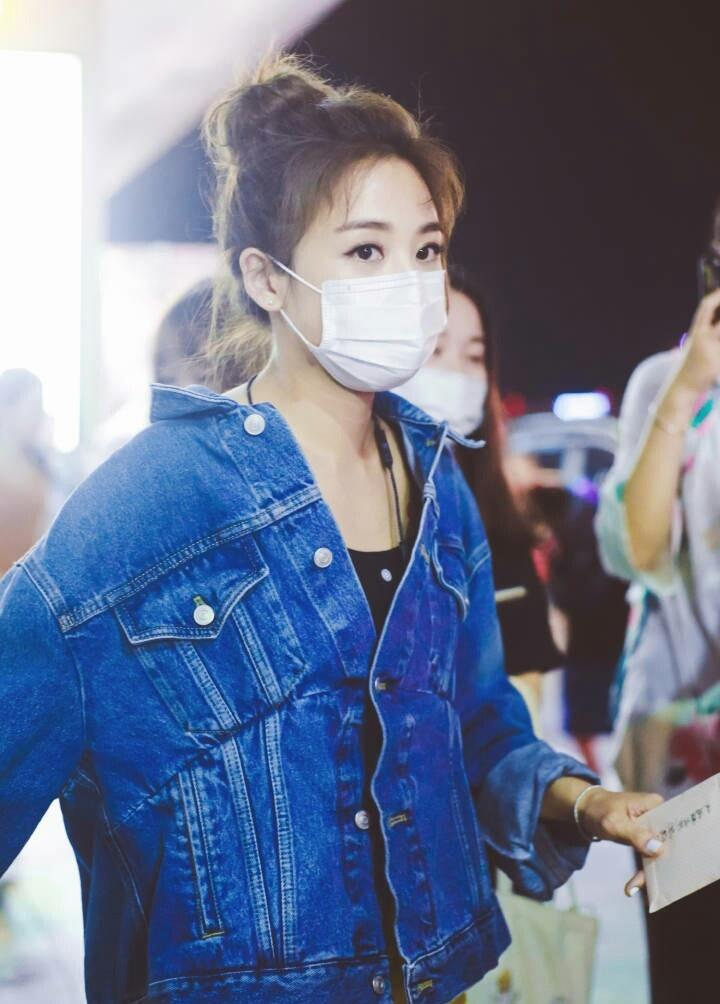OK: (277, 204, 455, 382), (389, 309, 492, 451)
